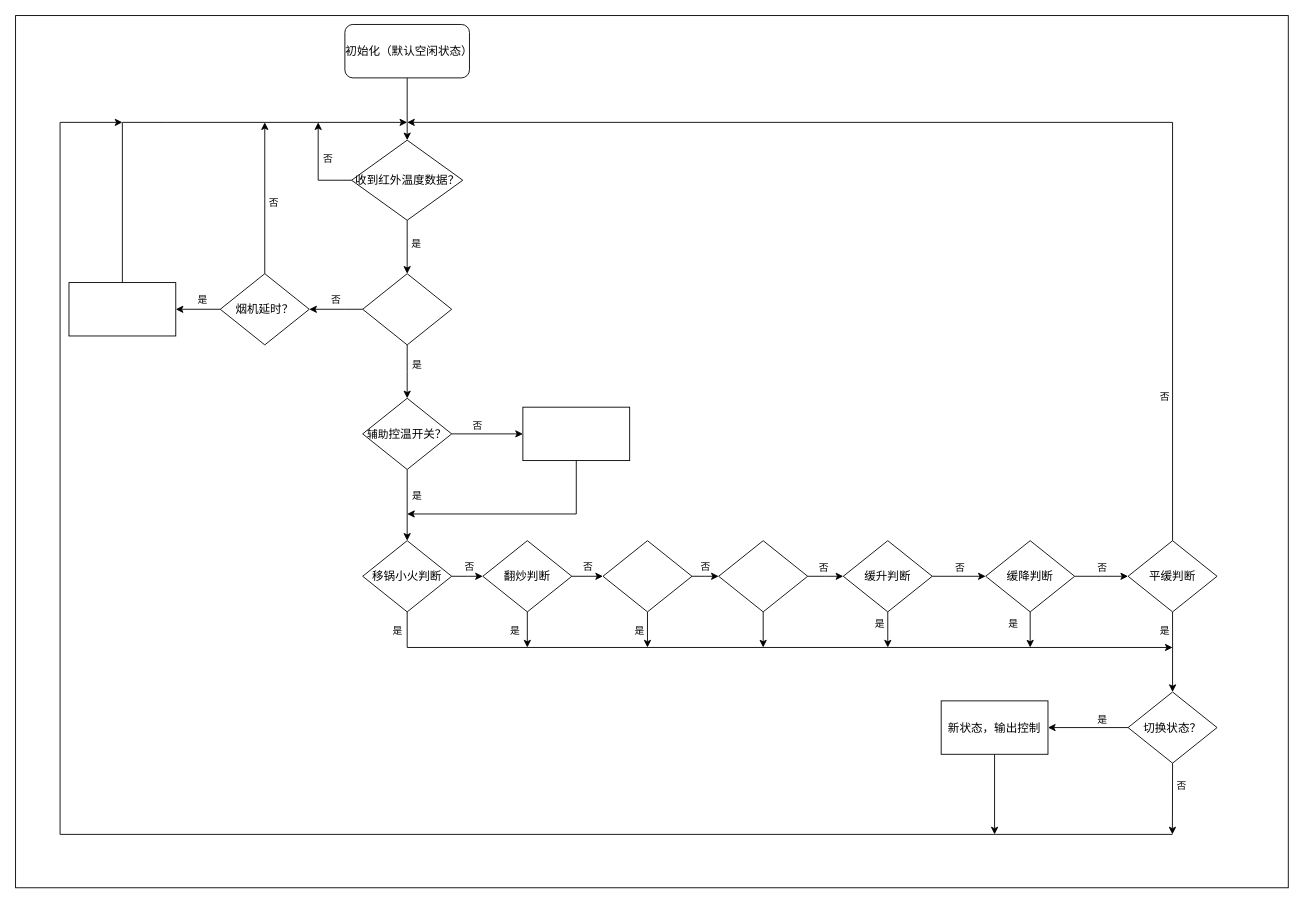
This 1304x903 diagram has some shape labels left out. Each missing label, with the centre of its shape:
"旋钮开关？" belongs at (x=407, y=309).
"烟机延迟关闭处理（时间达到，重新初始化）" belongs at (x=122, y=309).
"跳升判断" belongs at (x=763, y=576).
"跳降判断" belongs at (x=647, y=576).
"辅助控温处理" belongs at (x=576, y=433).
